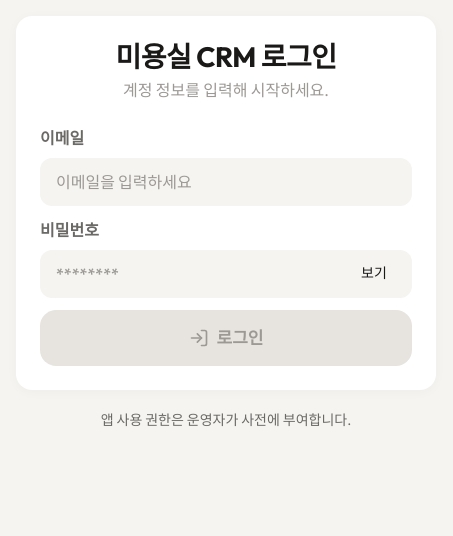
Scenario: shows a safe Korean action for unexpected_code
Type "test@example.invalid" into the field labelled "이메일". click: (226, 182)
box: [56,159,396,205]
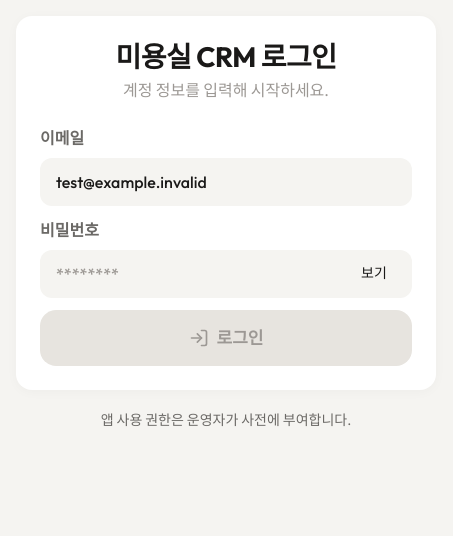
Type "synthetic" into the password field labelled "비밀번호". click: (204, 274)
box: [56,251,352,297]
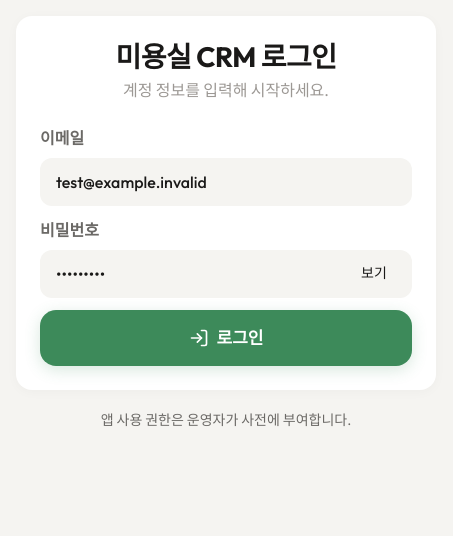
Click the button "로그인". click: (226, 338)
box: [40,310,412,366]
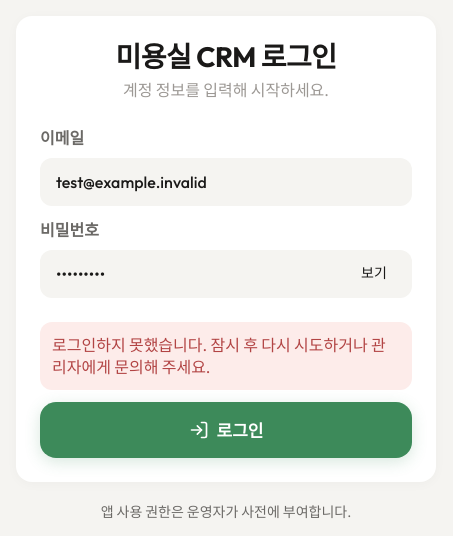
Check: the message reads "로그인하지 못했습니다. 잠시 후 다시 시도하거나 관리자에게 문의해 주세요.", box [52,335,386,377]
